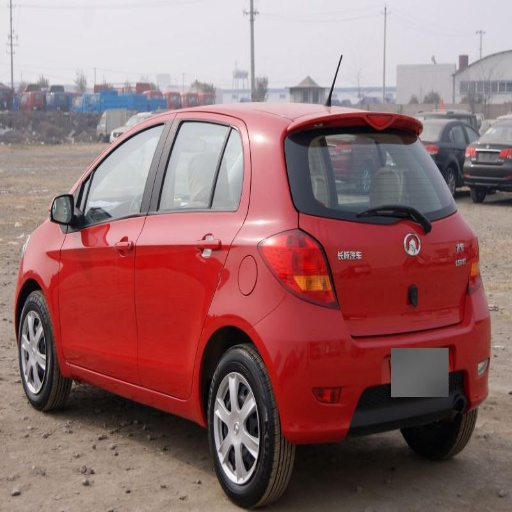back_bumper: (257, 291, 488, 442)
back_glass: (287, 130, 447, 216)
back_left_door: (135, 117, 244, 396)
trunk: (315, 219, 468, 335)
